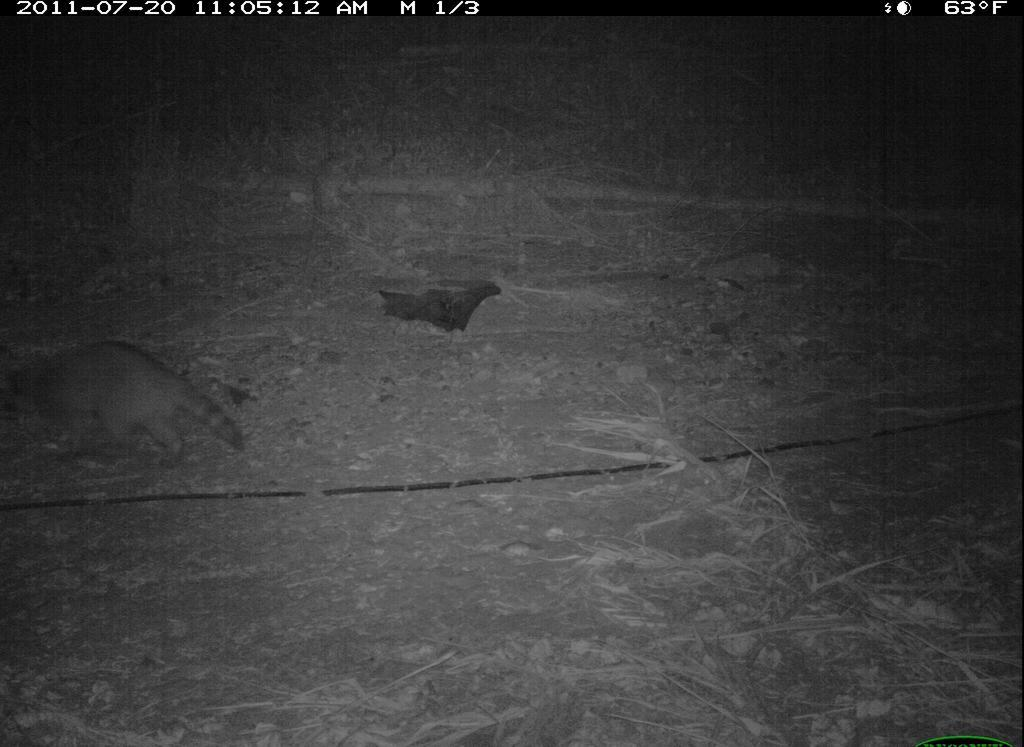raccoon: (9, 332, 255, 479)
